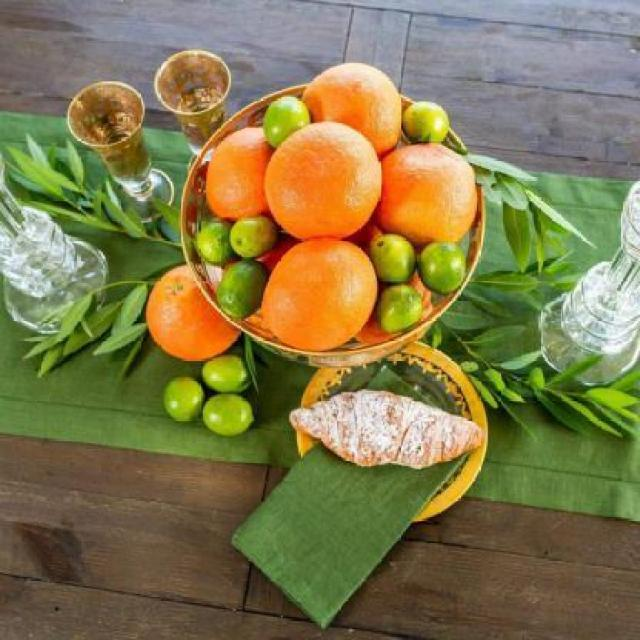Jeruk Sudah Matang: (263, 124, 383, 238), (262, 233, 381, 347), (369, 142, 477, 248), (293, 60, 404, 156), (148, 260, 245, 362), (207, 125, 296, 229)
